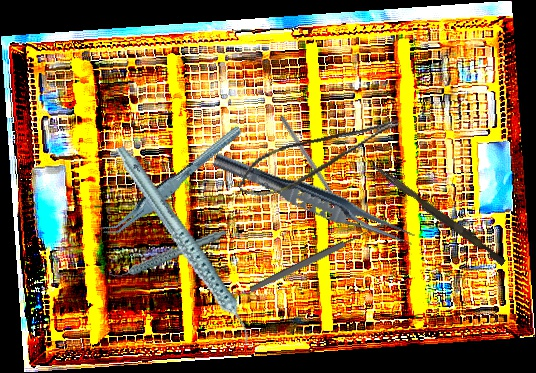Handpiece: (114, 128, 253, 364), (105, 228, 231, 280)
Hook Surgical: (278, 114, 345, 214)
Micro Scissor: (231, 112, 409, 205)
Pusher: (367, 162, 509, 267)
Surgical Spoon: (248, 221, 386, 294)
Tissue Forceps: (209, 148, 419, 252), (91, 124, 254, 241)
